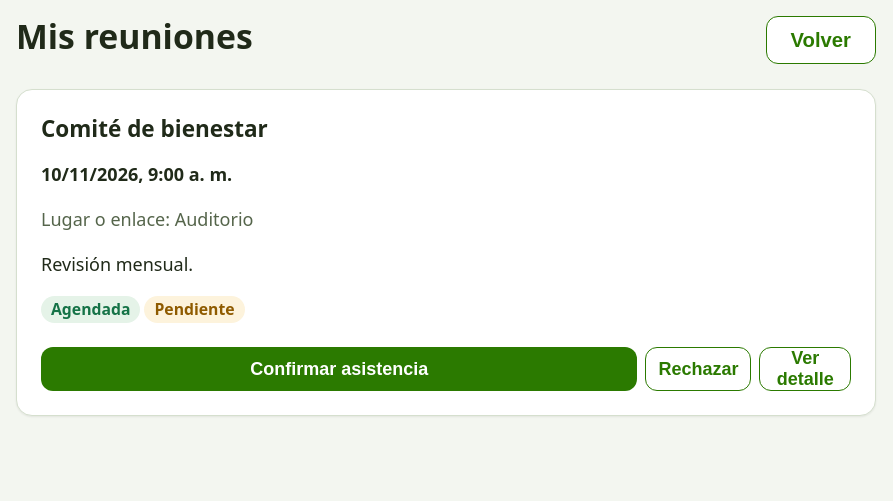
InvitedMeetingsPage › confirma la asistencia y refresca el estado
The image size is (893, 501).
Click the button "Confirmar asistencia" at (339, 369), box [41,347,637,391]
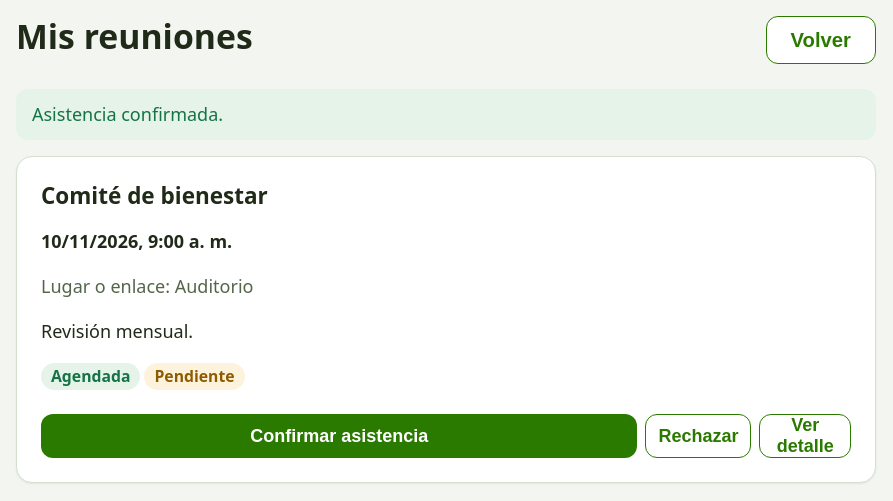
Result: the text "Asistencia confirmada." is shown at [16,88,876,140]
